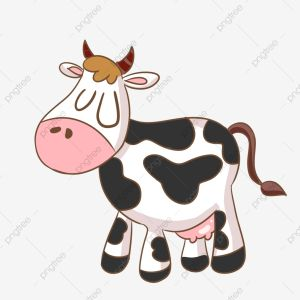cow: (30, 39, 286, 284)
